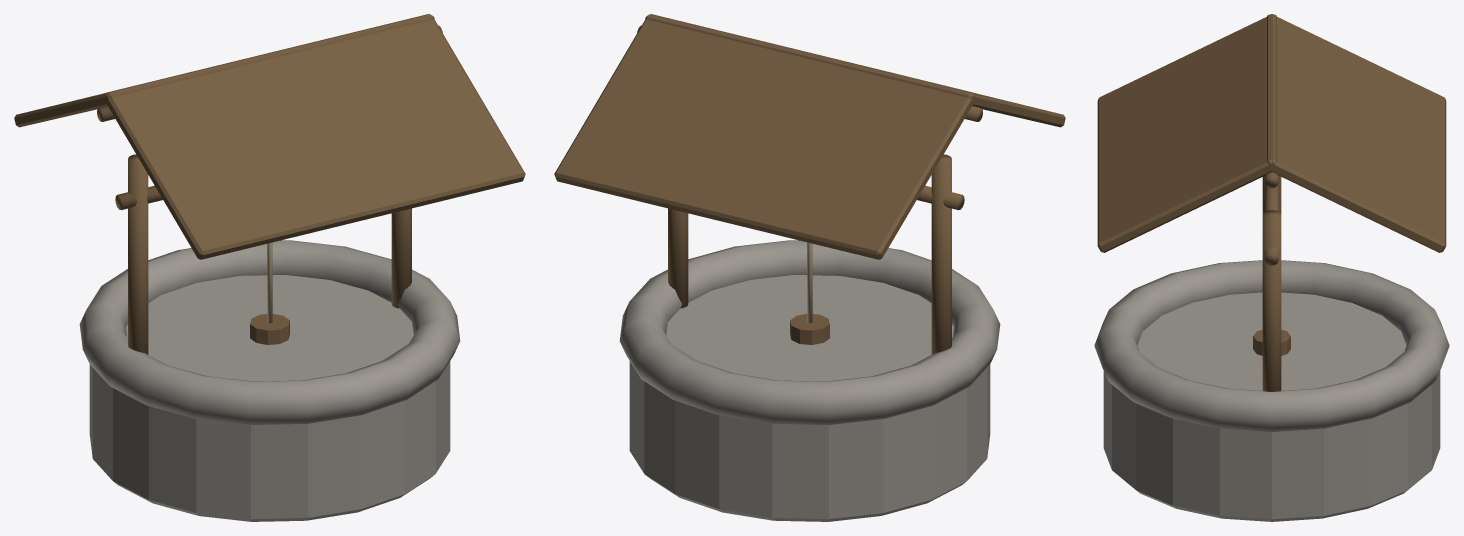
File: well.glb
3 views of the same model, side by side, from view 1: azimuth 30°, elevation 25°; view 2: azimuth 150°, elevation 25°; view 3: azimuth 270°, elevation 25° (orthographic). The views are drawn at different scales.
Visible parts, largest first — view 1: Cube, wall, rim, Cylinder.001, Cube.001, Cylinder.002, bucket; view 2: Cube.001, wall, rim, Cylinder.001, Cube, Cylinder.002, bucket; view 3: wall, Cube, Cube.001, rim, Cylinder.002, Cylinder.003, bucket.
Boxes of the visible parts, left/top/right/bottom form: Cube: left=104, top=14, right=525, bottom=259; wall: left=89, top=275, right=450, bottom=521; rim: left=79, top=240, right=460, bottom=424; Cylinder.001: left=128, top=154, right=148, bottom=354; Cube.001: left=14, top=14, right=434, bottom=127; Cylinder.002: left=391, top=208, right=411, bottom=308; bucket: left=250, top=314, right=289, bottom=344; Cube.001: left=554, top=14, right=974, bottom=259; wall: left=629, top=275, right=990, bottom=521; rim: left=619, top=240, right=1000, bottom=424; Cylinder.001: left=931, top=154, right=951, bottom=354; Cube: left=645, top=14, right=1065, bottom=127; Cylinder.002: left=668, top=208, right=688, bottom=308; bucket: left=790, top=314, right=829, bottom=344; wall: left=1103, top=292, right=1440, bottom=521; Cube: left=1097, top=14, right=1276, bottom=252; Cube.001: left=1267, top=14, right=1446, bottom=252; rim: left=1094, top=260, right=1449, bottom=431; Cylinder.002: left=1262, top=210, right=1281, bottom=391; Cylinder.003: left=1264, top=176, right=1279, bottom=265; bucket: left=1253, top=329, right=1290, bottom=355.
Size of the model in its own units: 2.7 by 3 by 2.64.
